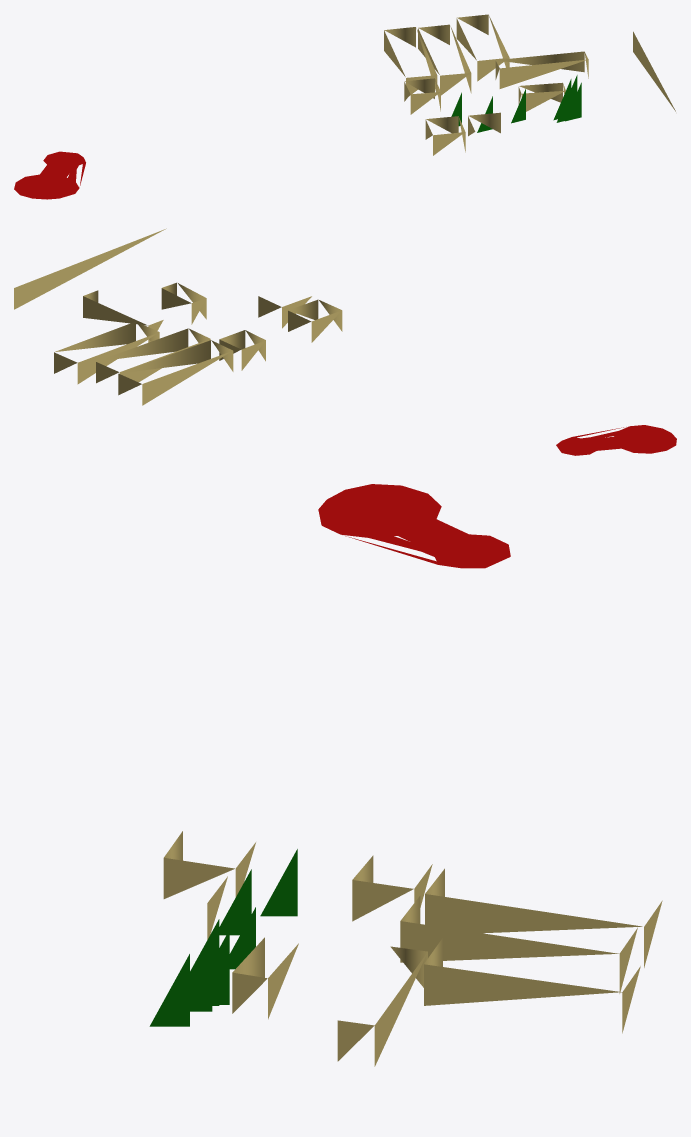
3 views of the same model, one above another, from view 1: azimuth 30°, elevation 25°; view 2: azimuth 150°, elevation 25°; view 3: azimuth 270°, elevation 25° (orthographic). The views are drawn at different scales.
Bounding box in the file's own units: 313 × 20.94 × 138.
